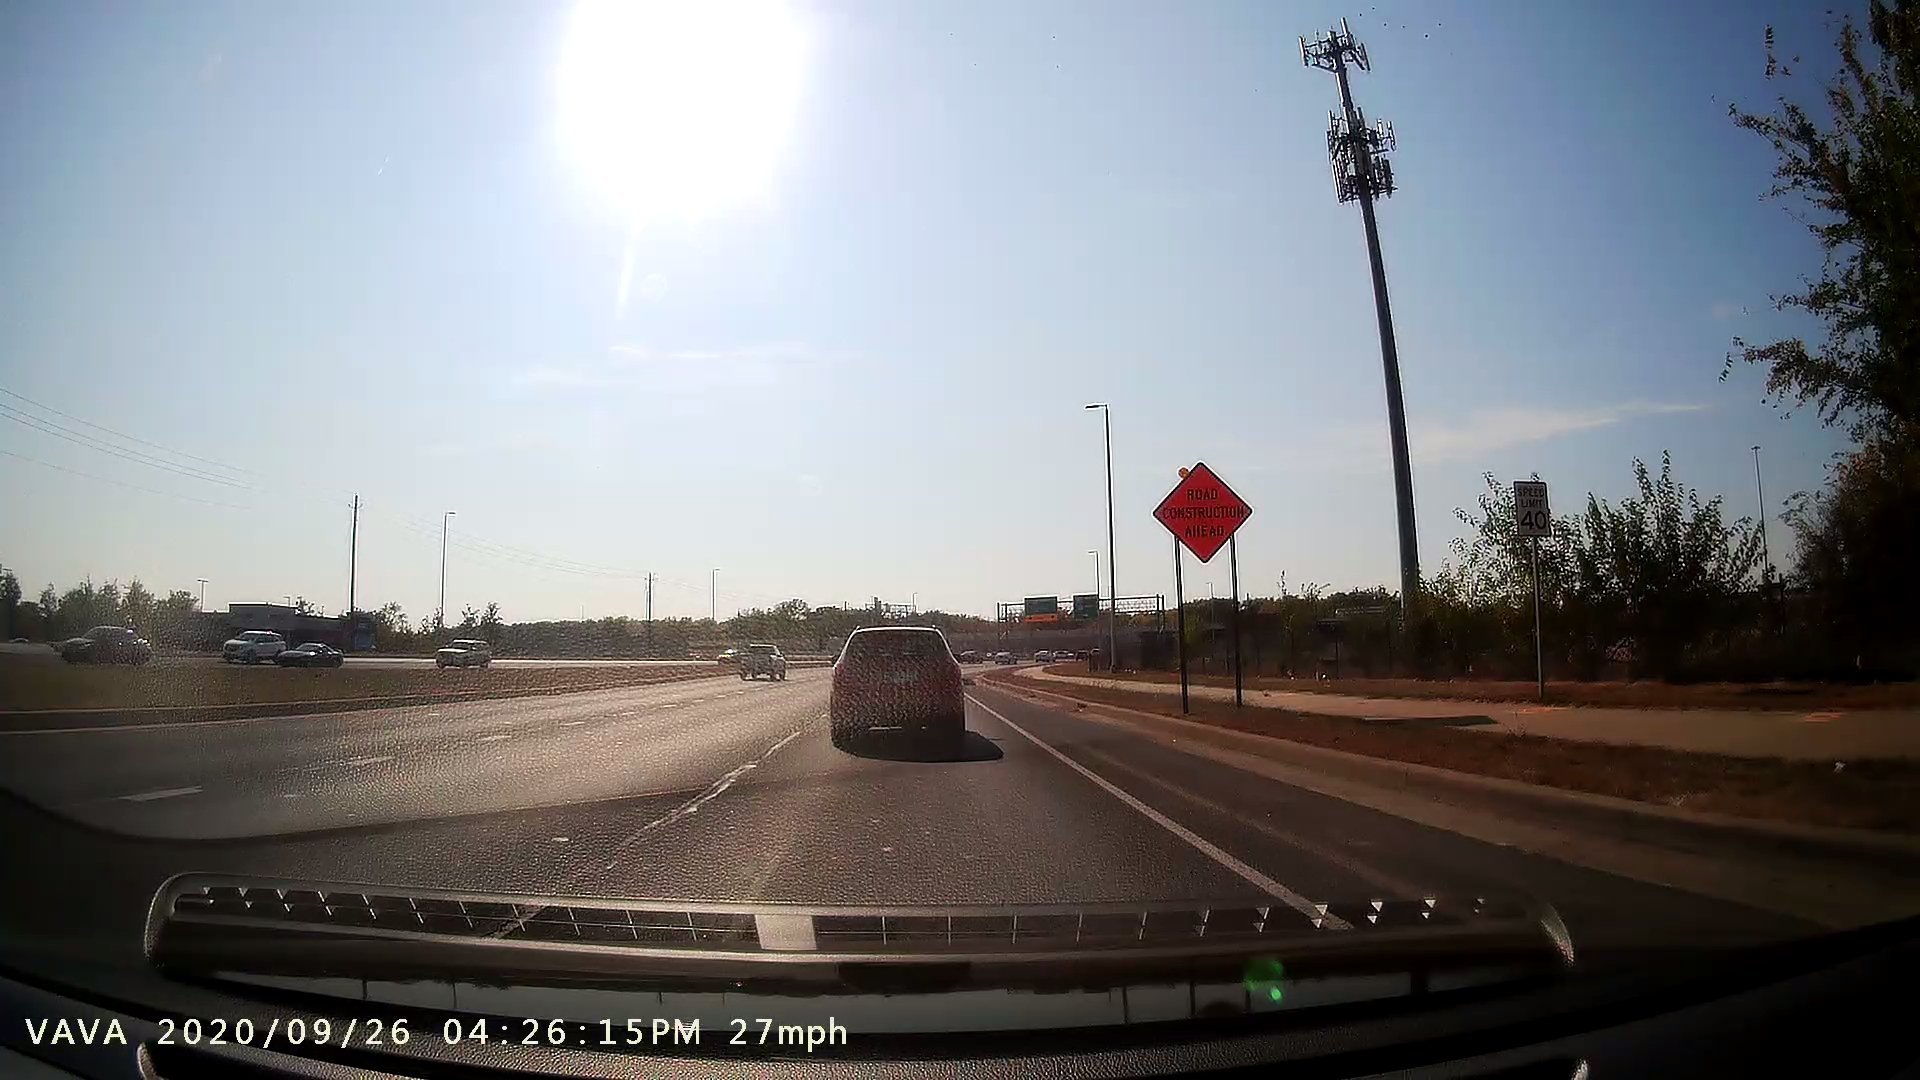ttcs_end_const: (1139, 448, 1261, 713)
